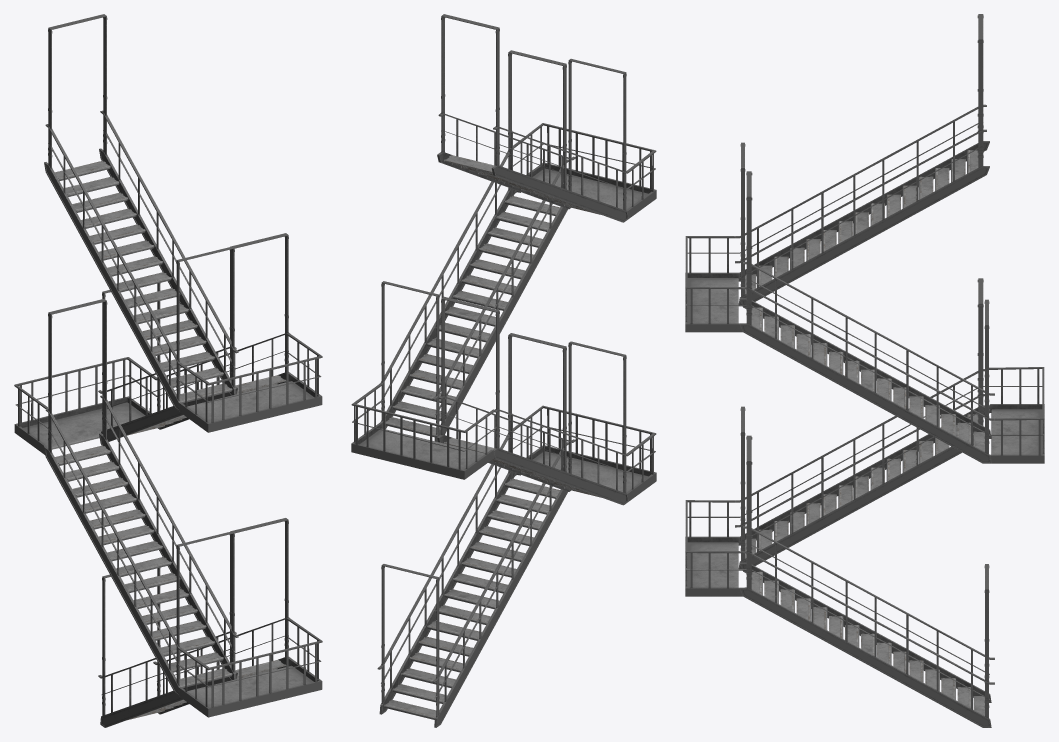
Rendered from staircase_modular_frame_-_steel.glb.
The picture shows the model from 3 angles, left to right: view 1: azimuth 30°, elevation 25°; view 2: azimuth 150°, elevation 25°; view 3: azimuth 270°, elevation 25°; orthographic projection. The views are drawn at different scales.
Parts seen in each view (by area): view 1: Cube.109, Cube.112, Cube.111; view 2: Cube.109, Cube.112, Cube.111; view 3: Cube.109, Cube.112, Cube.111.
Boxes of the visible parts, bbox=[...] form: Cube.109: bbox=[14, 233, 322, 727]; Cube.112: bbox=[44, 14, 238, 411]; Cube.111: bbox=[179, 334, 322, 432]; Cube.109: bbox=[351, 50, 656, 727]; Cube.112: bbox=[437, 14, 630, 222]; Cube.111: bbox=[513, 123, 656, 218]; Cube.109: bbox=[685, 171, 1044, 727]; Cube.112: bbox=[735, 14, 989, 306]; Cube.111: bbox=[685, 236, 746, 332].
Bounding box in the file's own units: 3.14 × 18.57 × 9.12.
4 materials, 4 textured.
